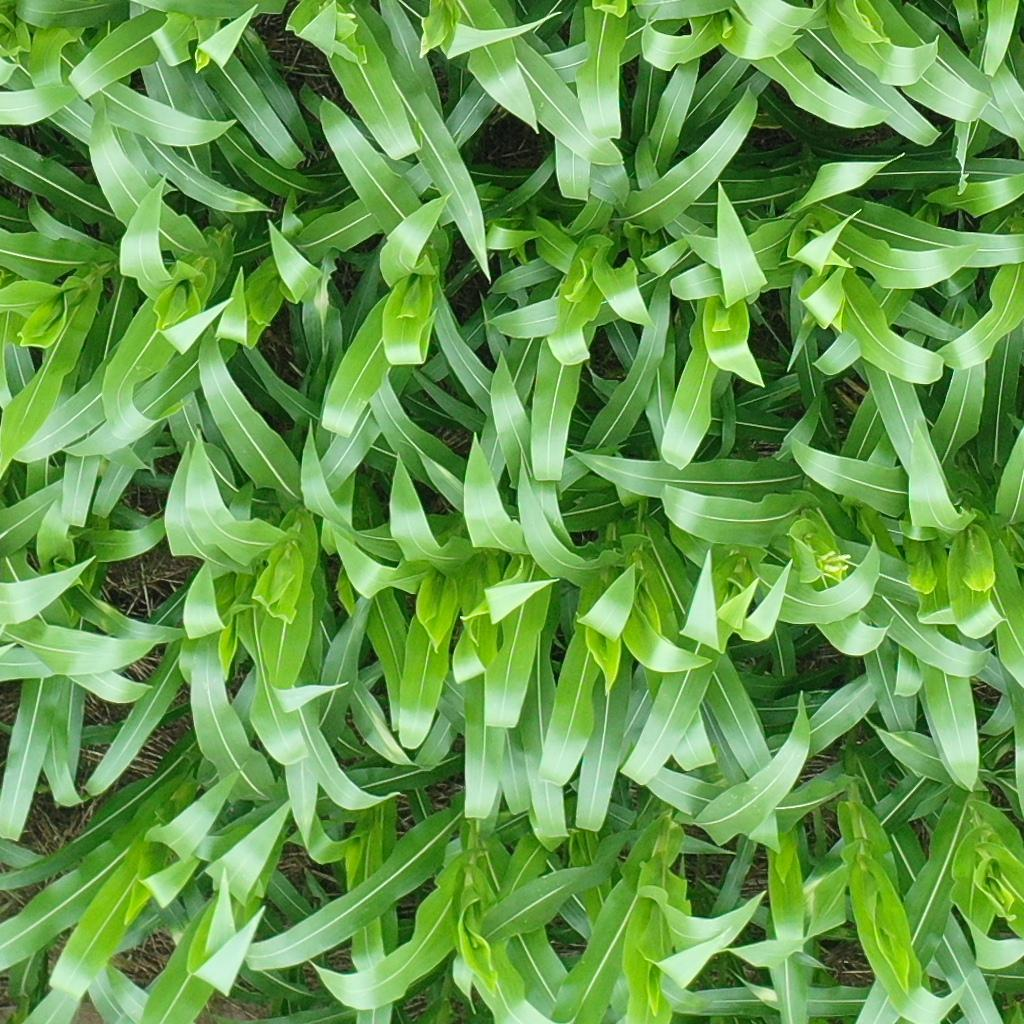Tassel: (810, 543, 854, 587)
